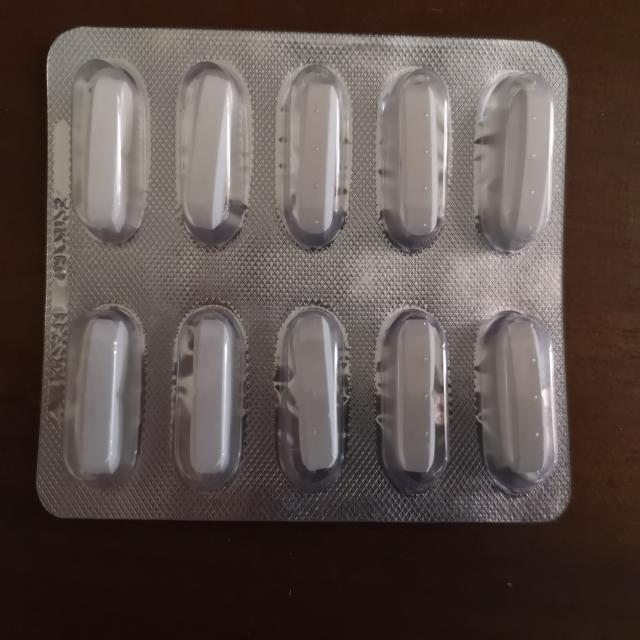Pill: (471, 299, 564, 492), (64, 53, 155, 247), (168, 57, 258, 253), (368, 55, 454, 256), (271, 292, 355, 496), (368, 297, 452, 497), (474, 63, 561, 256), (64, 296, 148, 491), (272, 56, 355, 253), (168, 300, 252, 492)
